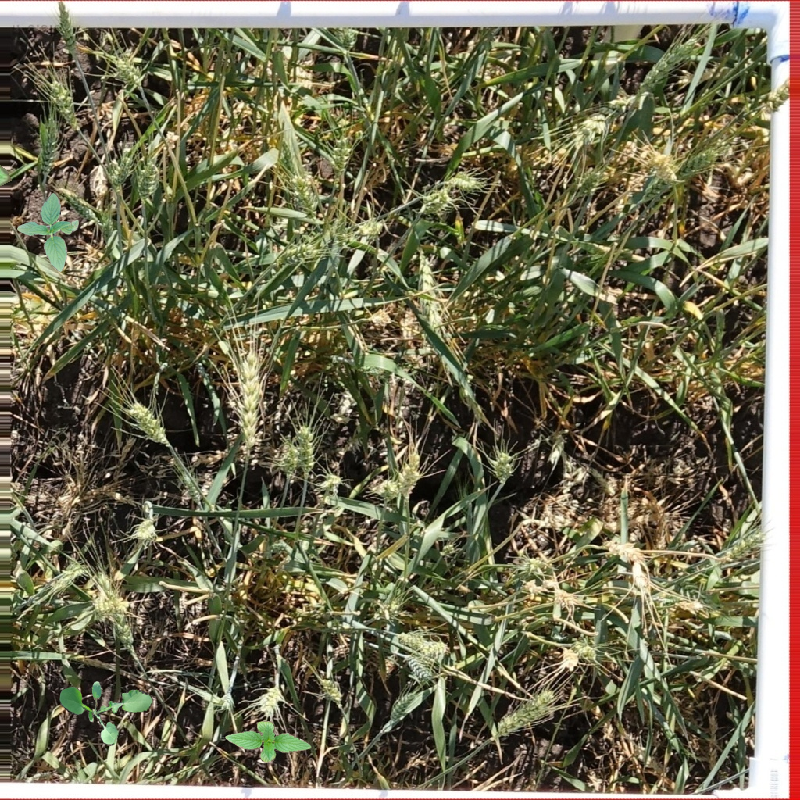spikelet: (230, 347, 267, 457), (489, 685, 558, 738), (569, 93, 635, 147), (640, 37, 697, 91), (412, 259, 447, 330), (649, 575, 707, 611), (124, 398, 169, 444), (45, 75, 81, 127), (675, 143, 723, 181), (86, 571, 127, 615), (393, 627, 449, 659), (32, 116, 62, 174), (717, 528, 763, 564), (286, 169, 322, 213), (57, 1, 82, 63), (386, 686, 425, 723), (756, 81, 795, 118), (292, 422, 319, 474), (393, 452, 424, 497), (558, 635, 599, 669), (110, 50, 146, 88), (603, 534, 646, 565), (327, 128, 356, 173), (49, 558, 86, 593), (644, 150, 680, 185), (254, 682, 287, 718), (133, 159, 161, 200), (279, 237, 319, 265), (316, 667, 346, 704), (418, 186, 455, 216), (513, 553, 551, 582), (65, 192, 99, 224), (488, 445, 517, 481), (574, 165, 606, 197), (275, 439, 300, 478), (403, 652, 435, 682), (177, 467, 206, 500), (324, 611, 362, 636), (130, 513, 160, 544), (109, 614, 136, 648), (543, 428, 569, 463), (353, 216, 384, 244), (446, 168, 482, 192), (106, 154, 130, 188), (331, 28, 358, 50)
weed: (59, 681, 153, 746), (17, 193, 79, 272), (225, 721, 312, 763)
